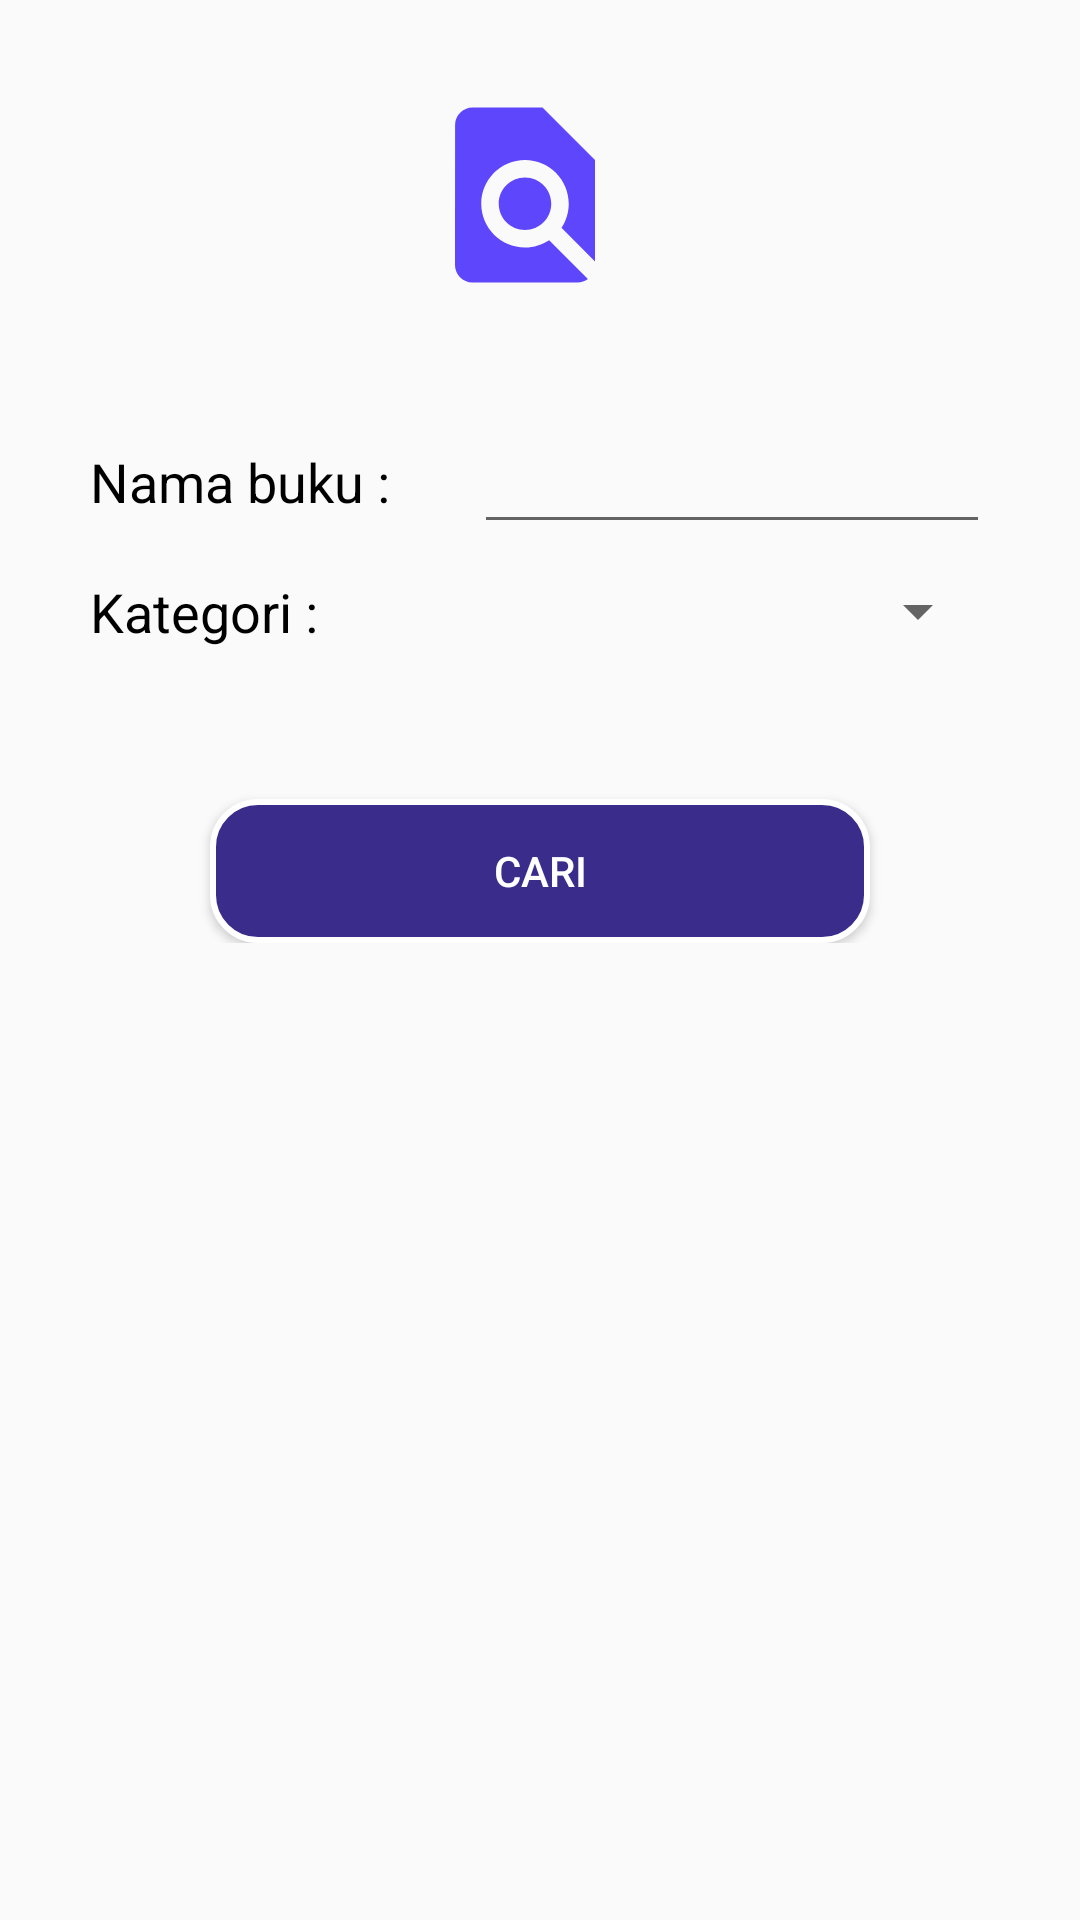

Where to tap for icons on this 1080px x 1920px app screen, as point (x, y):
find in page: point (525, 195)
